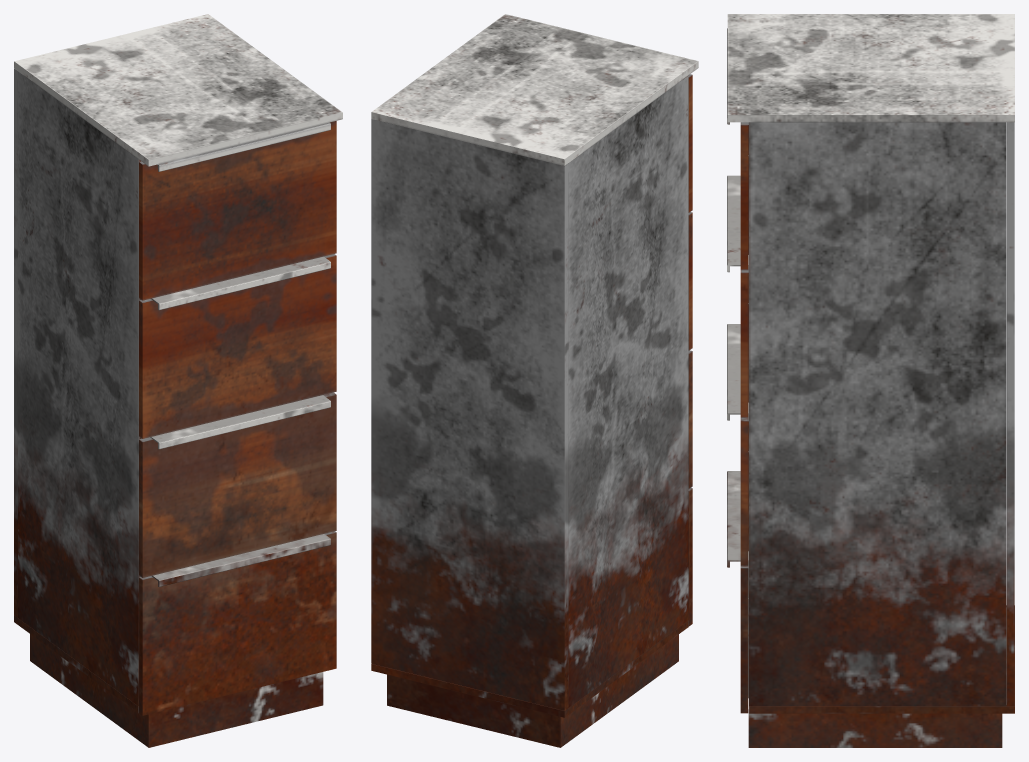
File: Placard.fbx
3 renders of one model, left to right at view 1: azimuth 30°, elevation 25°; view 2: azimuth 150°, elevation 25°; view 3: azimuth 270°, elevation 25°, orthographic. The views are drawn at different scales.
Parts seen in each view (by area): view 1: Drawer_3; view 2: Drawer_3; view 3: Drawer_3.
Part boxes in pixels (x1,y1,x2,y2): Drawer_3: (14, 14, 342, 747); Drawer_3: (371, 14, 698, 747); Drawer_3: (727, 14, 1014, 747).
Size of the model in its own units: 57.03 by 168 by 68.56.
1 material, 1 textured.
